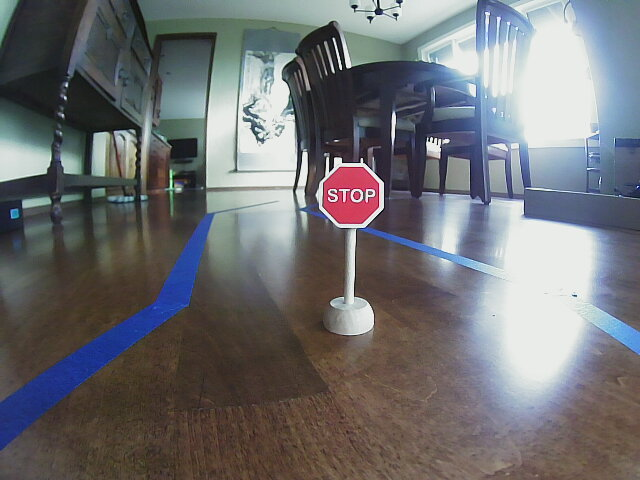StopSign: (318, 165, 385, 231)
